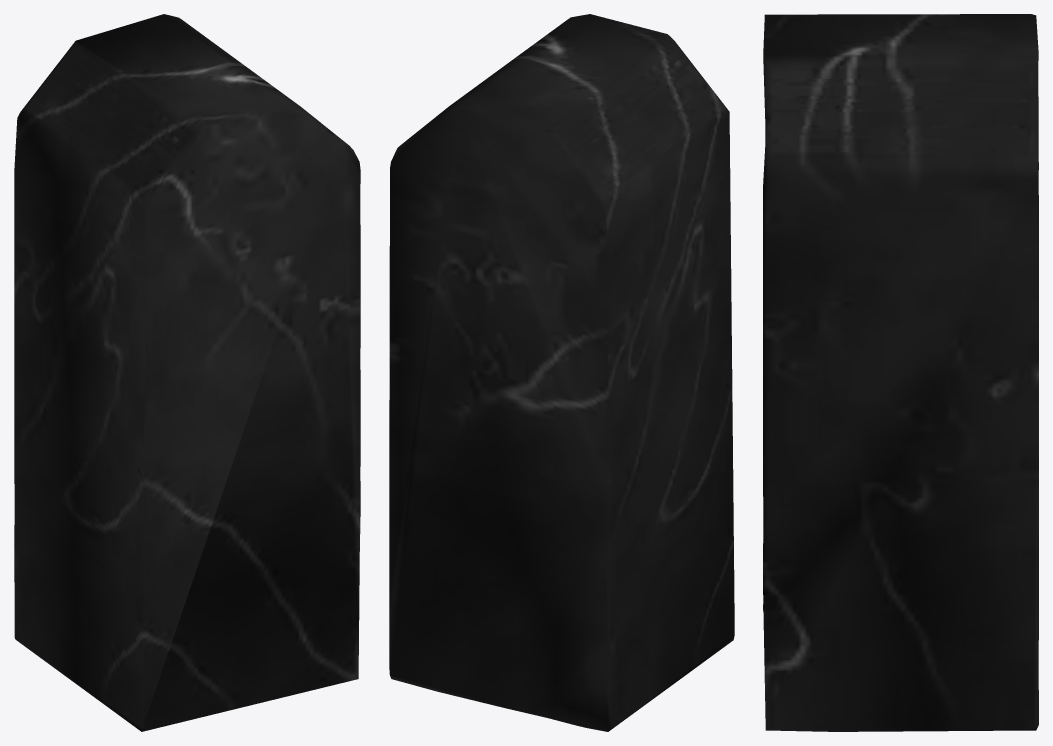
Rendered from pesec_cerny.glb.
3 views of the same model, side by side, from view 1: azimuth 30°, elevation 25°; view 2: azimuth 150°, elevation 25°; view 3: azimuth 270°, elevation 25° (orthographic). The views are drawn at different scales.
Parts seen in each view (by area): view 1: pesec_cerny; view 2: pesec_cerny; view 3: pesec_cerny.
Boxes of the visible parts, x1,y1,x2,y2 form: pesec_cerny: [14, 14, 360, 731]; pesec_cerny: [389, 14, 734, 731]; pesec_cerny: [763, 14, 1038, 731].
Size of the model in its own units: 0.0239 by 0.0609 by 0.0238.
Materials: 1 (1 with a texture image).
